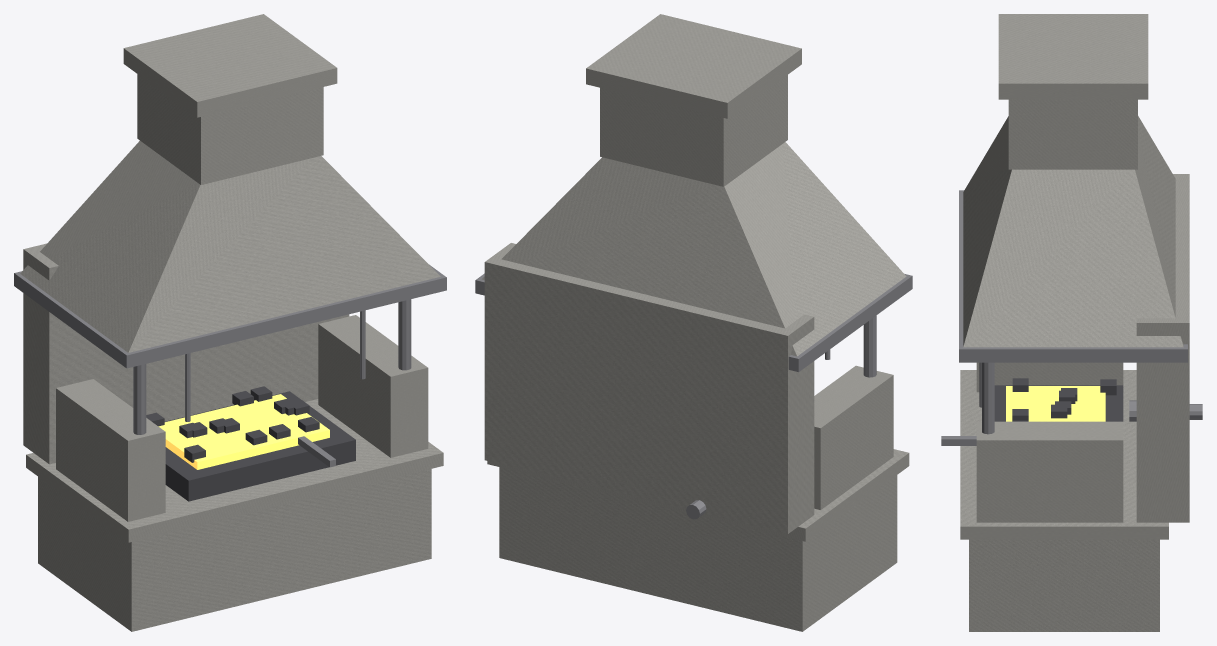
File: stone-forge-hearth-with-hood-and-flue-3-8-m.glb
The picture shows the model from 3 angles, left to right: view 1: azimuth 30°, elevation 25°; view 2: azimuth 150°, elevation 25°; view 3: azimuth 270°, elevation 25°; orthographic projection.
Visible parts, largest first — view 1: blacksmith-forge-and-armoury-forge-hearth-and-hood; view 2: blacksmith-forge-and-armoury-forge-hearth-and-hood; view 3: blacksmith-forge-and-armoury-forge-hearth-and-hood.
Boxes of the visible parts, x1=… form: blacksmith-forge-and-armoury-forge-hearth-and-hood: x1=14, y1=14, x2=446, y2=631; blacksmith-forge-and-armoury-forge-hearth-and-hood: x1=475, y1=14, x2=912, y2=631; blacksmith-forge-and-armoury-forge-hearth-and-hood: x1=941, y1=14, x2=1202, y2=631.
Bounding box in the file's own units: 2.56 × 3.82 × 1.78.
4 materials, 1 textured.
